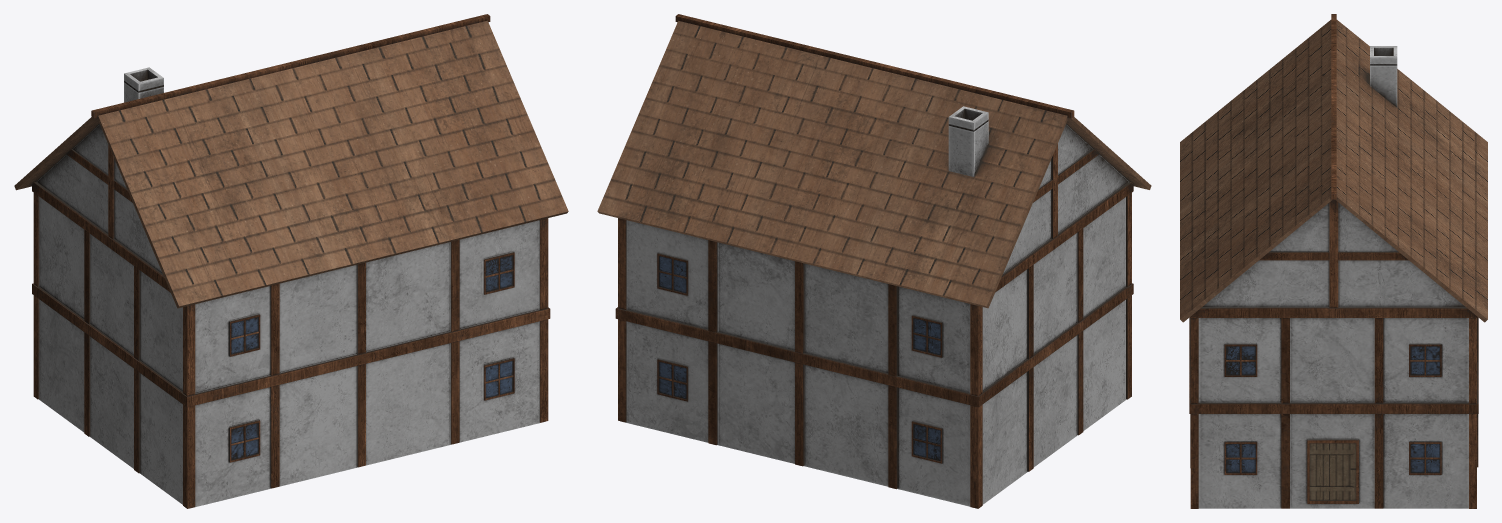
The model's file is medieval_building_lowpoly_2.obj.
3 views of the same model, side by side, from view 1: azimuth 30°, elevation 25°; view 2: azimuth 150°, elevation 25°; view 3: azimuth 270°, elevation 25° (orthographic). The views are drawn at different scales.
Visible parts, largest first — view 1: Cube_Cube.019; view 2: Cube_Cube.019; view 3: Cube_Cube.019.
Part boxes in pixels (x1,y1,x2,y2): Cube_Cube.019: (14, 14, 568, 508); Cube_Cube.019: (597, 14, 1151, 508); Cube_Cube.019: (1180, 14, 1487, 508).
Size of the model in its own units: 12.18 by 10.17 by 8.78.
1 material, 1 textured.
